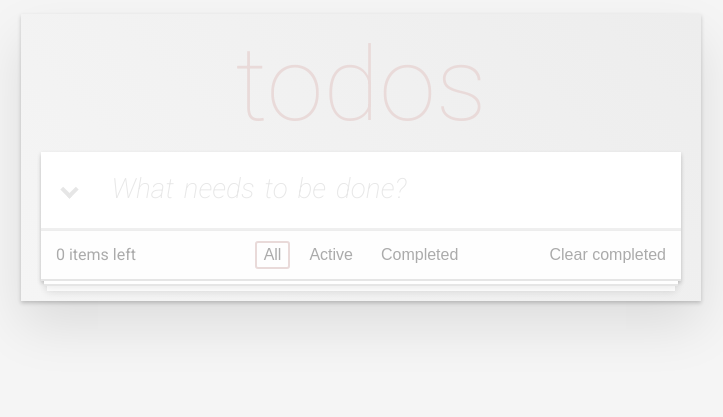
Test: Todos › can add a new todo
Type "Learn TypeScript" into the field with placeholder "What needs to be done?".
click(361, 190); type("Learn TypeScript")  # box [41,152,681,228]
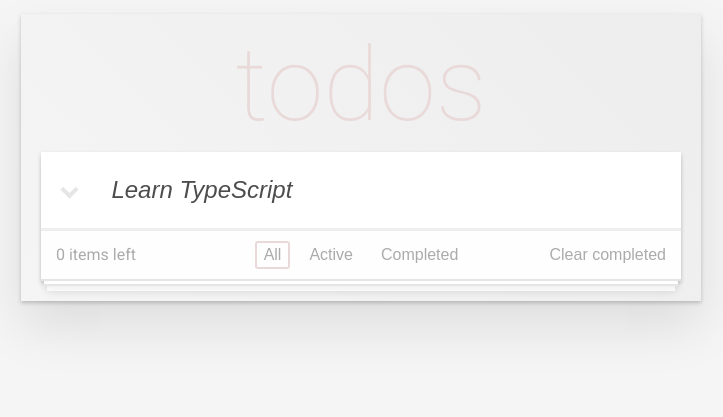
Press Enter in the field with placeholder "What needs to be done?", box [41,152,681,228]
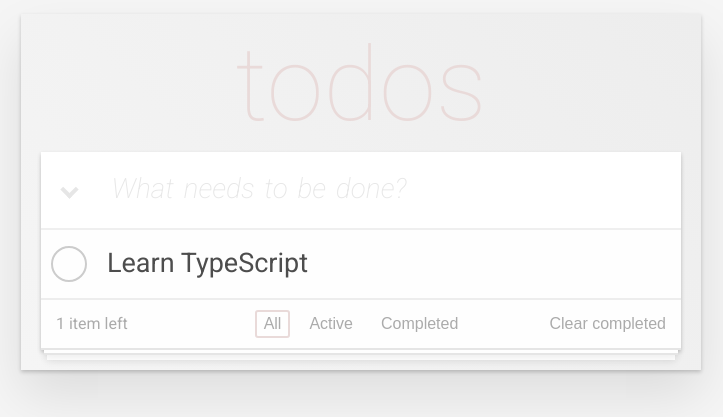
expect the list item "Learn TypeScript" is shown: met, box [41,230,681,299]
expect the text "1 item left" is shown: met, box [56,314,128,333]
